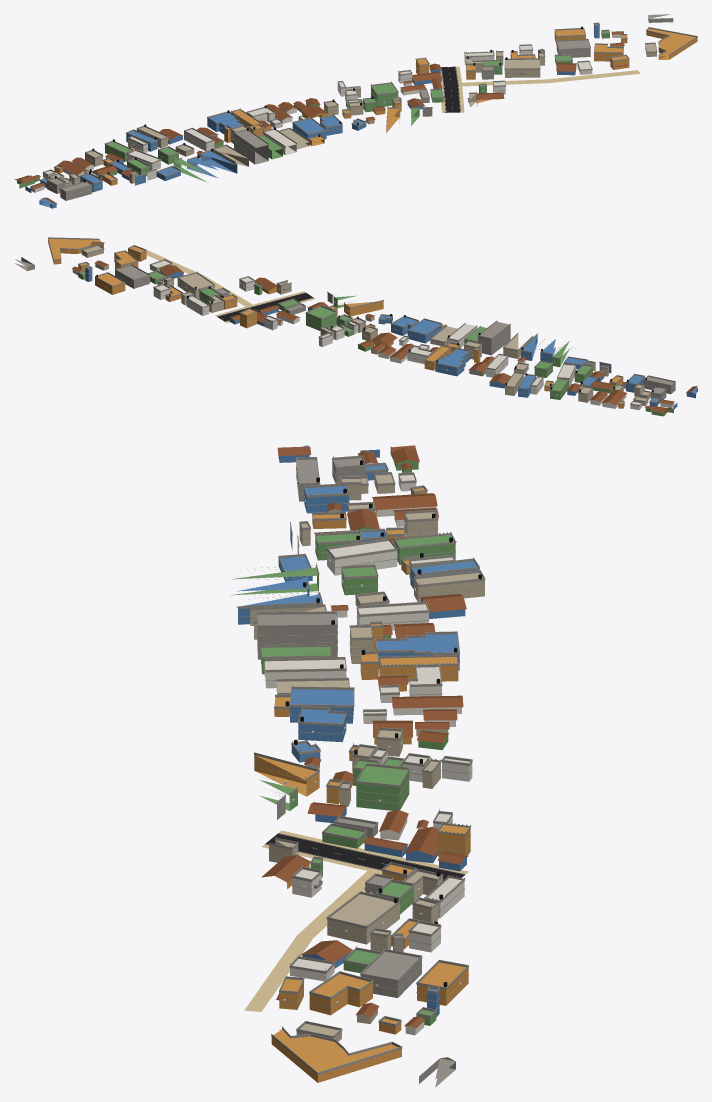
The model's file is zone_t0_3.glb.
3 renders of one model, top to bottom at view 1: azimuth 30°, elevation 25°; view 2: azimuth 150°, elevation 25°; view 3: azimuth 270°, elevation 25°, orthographic. The views are drawn at different scales.
Visible parts, largest first — view 1: parapet_t0_3, bld_peinture_ocre_t0_3-col, bld_peinture_bleu_t0_3-col, bld_peinture_blanc_t0_3-col, toit_tole_t0_3, bld_peinture_ecaillee_t0_3-col, bld_peinture_vert_t0_3-col, bld_beton_t0_3-col, bandeau_t0_3, route_residential_terre_t0_3, route_secondary_bitume_t0_3; view 2: parapet_t0_3, bld_peinture_ocre_t0_3-col, bld_peinture_bleu_t0_3-col, bld_peinture_blanc_t0_3-col, bld_peinture_ecaillee_t0_3-col, toit_tole_t0_3, bld_peinture_vert_t0_3-col, bld_beton_t0_3-col, bandeau_t0_3, route_secondary_bitume_t0_3, route_residential_terre_t0_3; view 3: parapet_t0_3, bld_peinture_ocre_t0_3-col, bld_peinture_ecaillee_t0_3-col, toit_tole_t0_3, bld_peinture_blanc_t0_3-col, bld_peinture_bleu_t0_3-col, bld_peinture_vert_t0_3-col, bld_beton_t0_3-col, bandeau_t0_3, route_residential_terre_t0_3, route_secondary_bitume_t0_3.
Part boxes in pixels (box(x1,y1,x2,y2)): parapet_t0_3: box(40, 22, 697, 192); bld_peinture_ocre_t0_3-col: box(54, 28, 697, 185); bld_peinture_bleu_t0_3-col: box(25, 24, 599, 208); bld_peinture_blanc_t0_3-col: box(30, 34, 620, 192); toit_tole_t0_3: box(14, 31, 624, 203); bld_peinture_ecaillee_t0_3-col: box(48, 44, 656, 185); bld_peinture_vert_t0_3-col: box(17, 31, 609, 188); bld_beton_t0_3-col: box(47, 14, 673, 200); bandeau_t0_3: box(47, 29, 629, 196); route_residential_terre_t0_3: box(458, 70, 640, 86); route_secondary_bitume_t0_3: box(441, 66, 460, 112); parapet_t0_3: box(48, 237, 675, 406); bld_peinture_ocre_t0_3-col: box(48, 238, 624, 408); bld_peinture_bleu_t0_3-col: box(85, 267, 697, 409); bld_peinture_blanc_t0_3-col: box(72, 260, 674, 409); bld_peinture_ecaillee_t0_3-col: box(81, 246, 650, 405); toit_tole_t0_3: box(72, 260, 697, 412); bld_peinture_vert_t0_3-col: box(78, 272, 673, 416); bld_beton_t0_3-col: box(15, 257, 675, 401); bandeau_t0_3: box(85, 254, 675, 398); route_secondary_bitume_t0_3: box(217, 292, 313, 321); route_residential_terre_t0_3: box(141, 247, 254, 307); parapet_t0_3: box(237, 455, 485, 1074); bld_peinture_ocre_t0_3-col: box(254, 488, 470, 1082); bld_peinture_ecaillee_t0_3-col: box(250, 474, 484, 1041); toit_tole_t0_3: box(261, 445, 468, 1028); bld_peinture_blanc_t0_3-col: box(264, 463, 472, 1035); bld_peinture_bleu_t0_3-col: box(236, 445, 479, 1017); bld_peinture_vert_t0_3-col: box(231, 448, 455, 1025); bld_beton_t0_3-col: box(257, 458, 455, 1087); bandeau_t0_3: box(238, 468, 484, 1009); route_residential_terre_t0_3: box(244, 868, 382, 1011); route_secondary_bitume_t0_3: box(265, 833, 465, 880).
Size of the model in its own units: 513 by 14 by 88.3.
